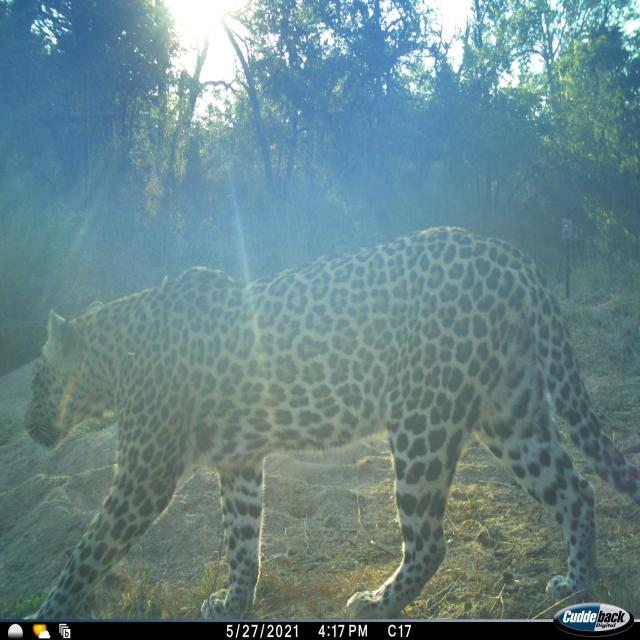Leopard: (0, 237, 640, 634)
